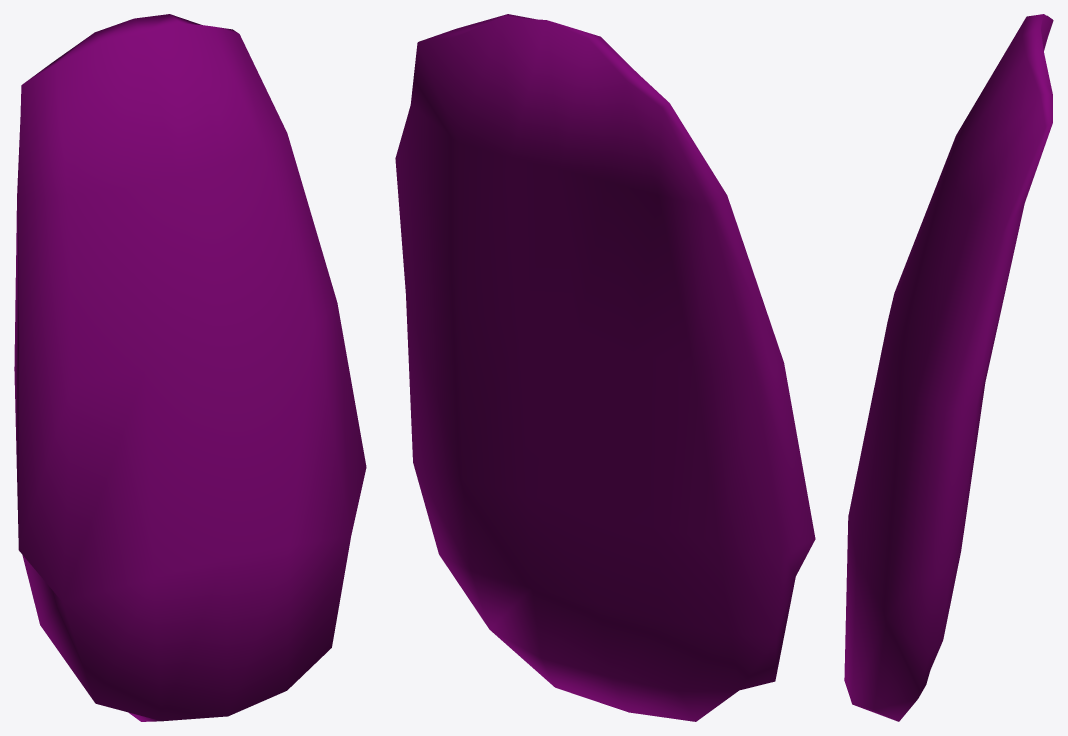
File: wingR.fbx
The picture shows the model from 3 angles, left to right: view 1: azimuth 30°, elevation 25°; view 2: azimuth 150°, elevation 25°; view 3: azimuth 270°, elevation 25°; orthographic projection. The views are drawn at different scales.
Parts seen in each view (by area): view 1: wingR; view 2: wingR; view 3: wingR.
Part boxes in pixels (x1,y1,x2,y2): wingR: (14,14,366,721); wingR: (395,14,815,721); wingR: (844,14,1053,721).
Size of the model in its own units: 15.32 by 27.34 by 7.7.
